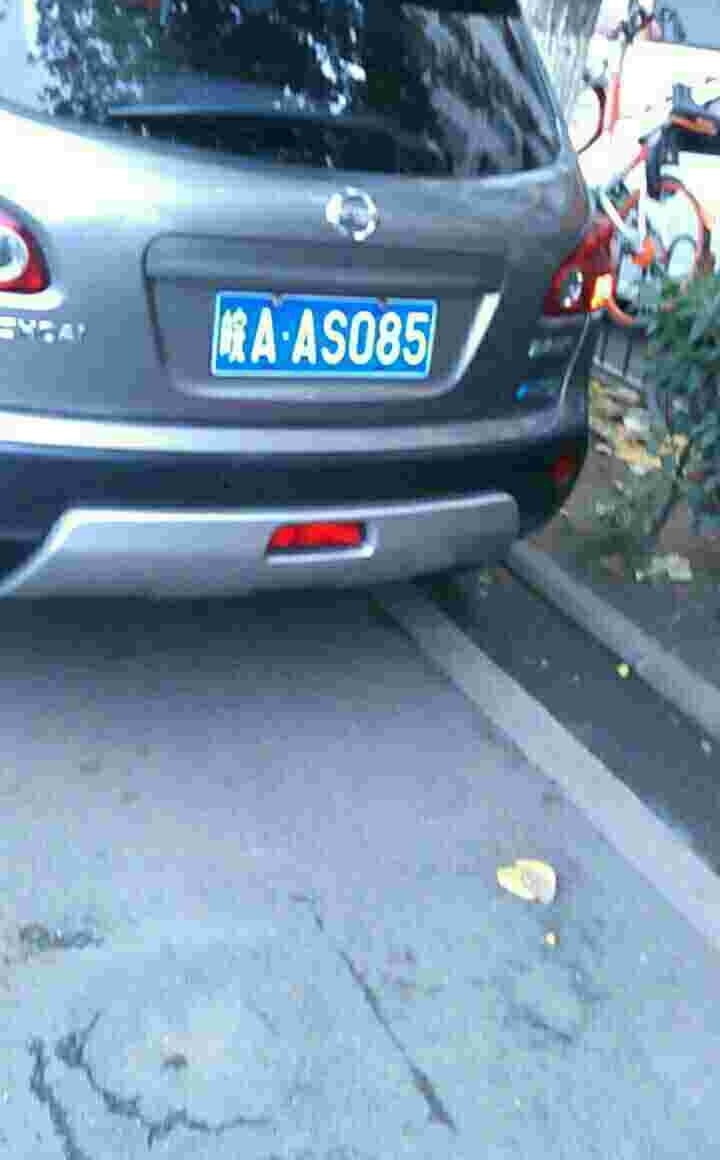license_plate: (217, 291, 435, 374)
